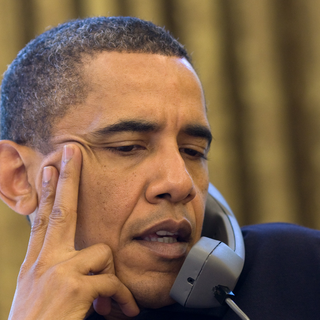eye: (97, 132, 152, 162), (172, 138, 215, 167)
